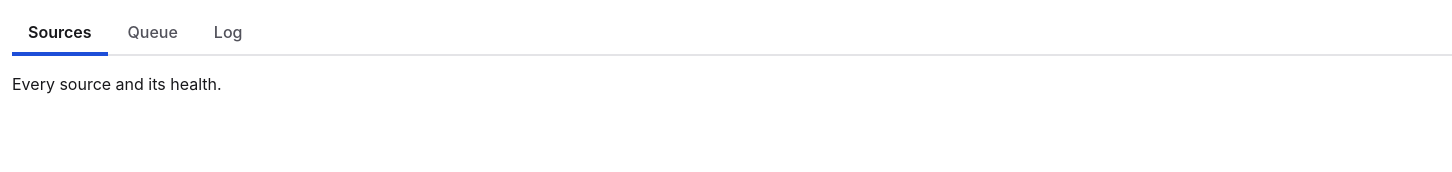
Tabs › shows the panel of the tab that a tap picks
Click the tab "Log": (228, 34) [198, 12, 258, 56]
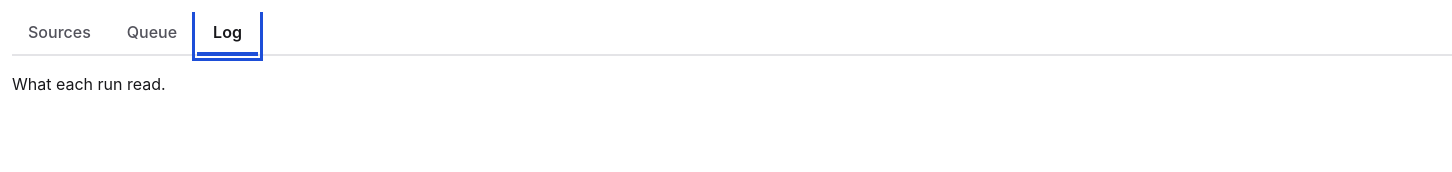
Now the panel named "Log" reads "What each run read.", box [12, 74, 166, 94]
